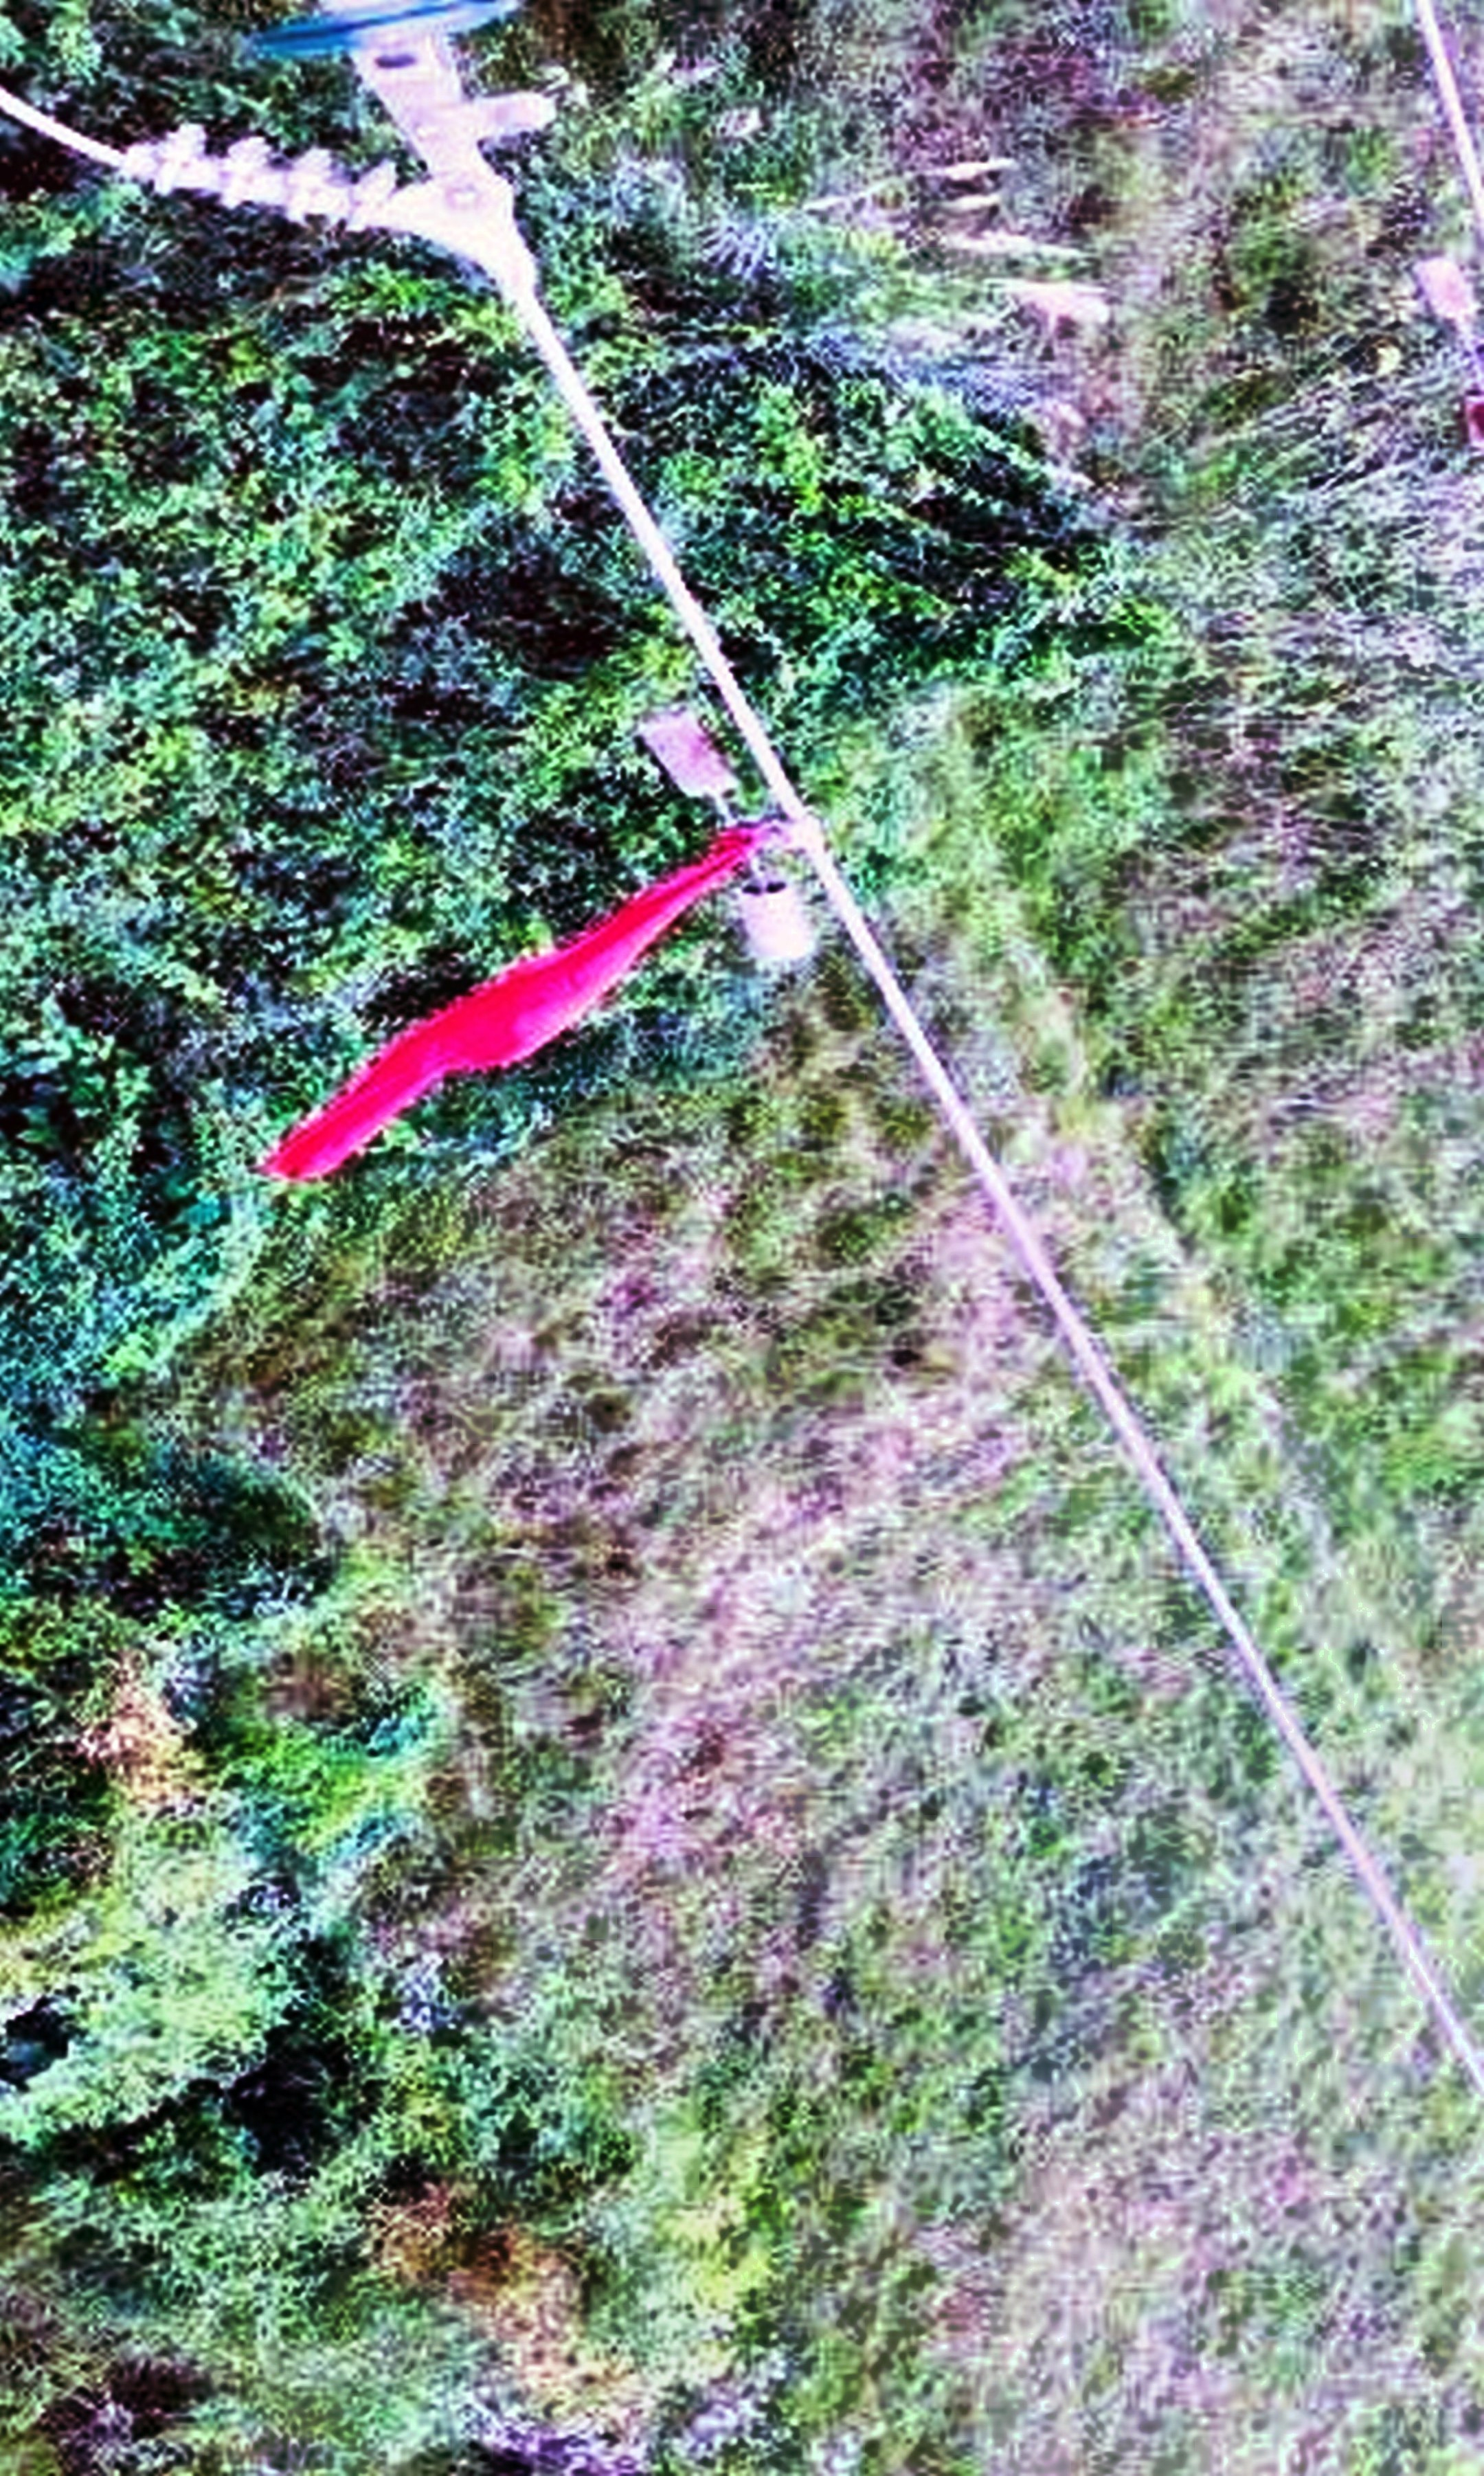wire foreign body: (283, 818, 806, 1197)
